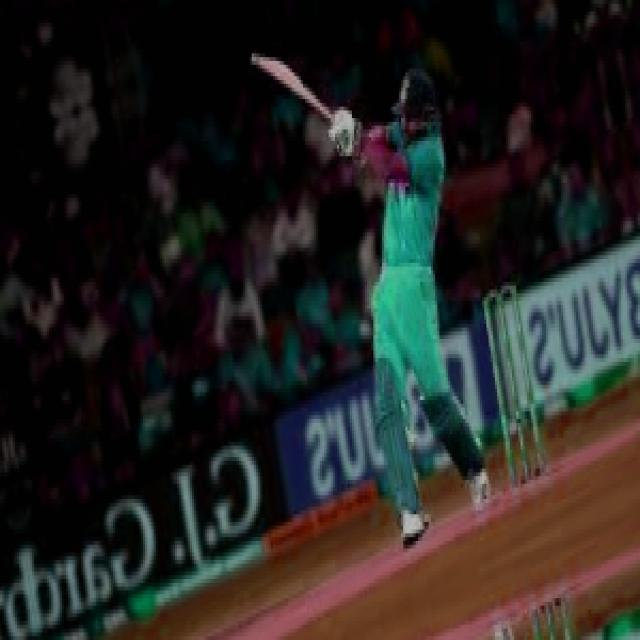toe: (246, 48, 273, 69)
